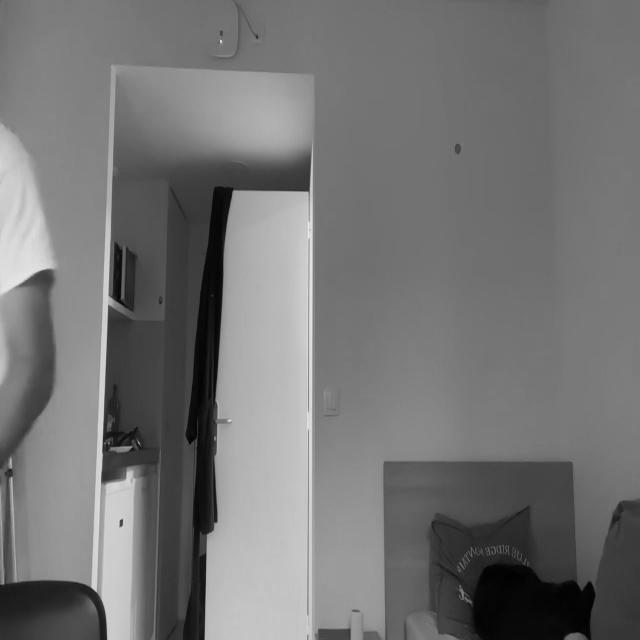elbow: (9, 341, 59, 414)
shoulder: (0, 119, 38, 219)
